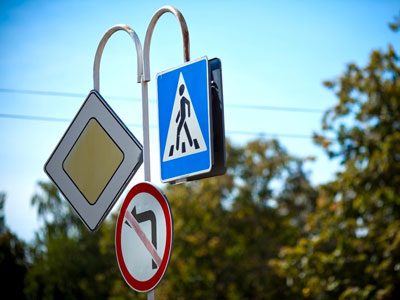crosswalk: (159, 70, 209, 162)
priority_road: (50, 103, 133, 217)
